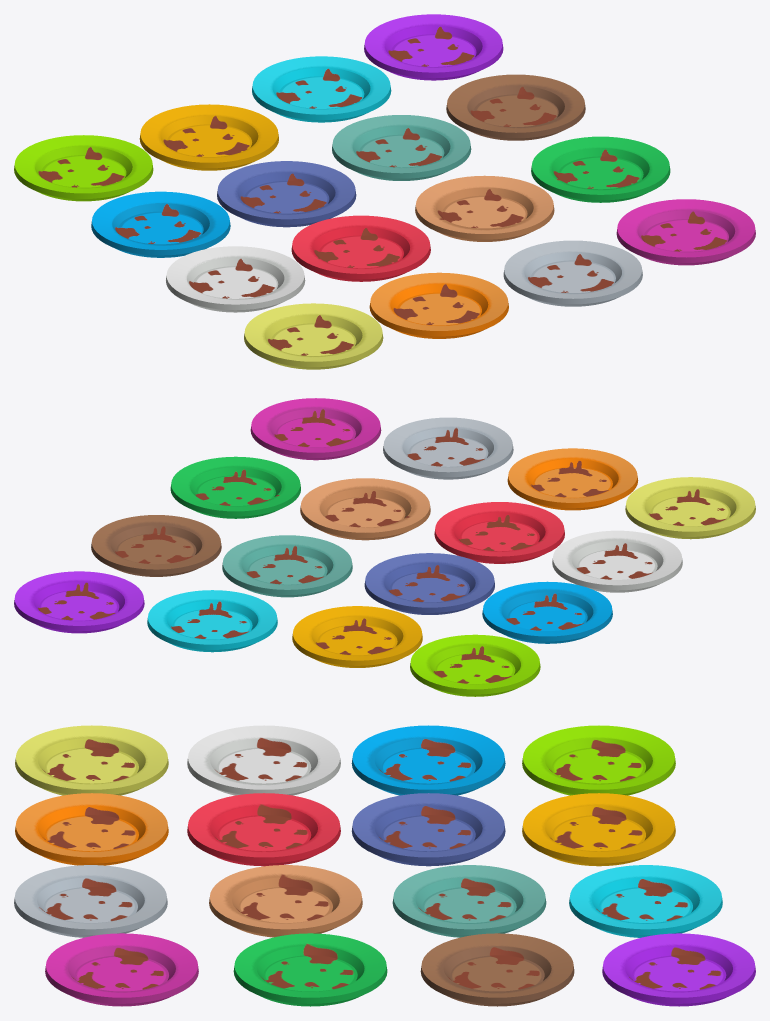
The model's file is Plates All.fbx.
The picture shows the model from 3 angles, top to bottom: view 1: azimuth 30°, elevation 25°; view 2: azimuth 150°, elevation 25°; view 3: azimuth 270°, elevation 25°; orthographic projection. The views are drawn at different scales.
Visible parts, largest first — view 1: Plate_15, Plate_09, Plate_07, Plate04, Plate_12, Plate_16, Plate_01, Plate_02, Plate_13, Plate_14, Plate_06, Plate_05 (+4 smaller); view 2: Plate_16, Plate_11, Plate_09, Plate_10, Plate_05, Plate_14, Plate_01, Plate04, Plate_12, Plate_13, Plate_08, Plate_15 (+4 smaller); view 3: Plate_13, Plate_16, Plate_14, Plate_15, Plate_07, Plate_08, Plate_06, Plate_05, Plate_12, Plate_09, Plate_11, Plate_10 (+4 smaller).
Boxes of the visible parts, x1,y1,x2,y2 form: Plate_15: (446,74,585,140); Plate_09: (503,240,642,306); Plate_07: (139,104,278,170); Plate04: (14,135,153,201); Plate_12: (252,56,391,122); Plate_16: (364,14,503,80); Plate_01: (244,303,383,369); Plate_02: (166,246,305,312); Plate_13: (616,199,755,265); Plate_14: (531,136,670,202); Plate_06: (291,215,430,281); Plate_05: (369,272,508,338); Plate_16: (14,571,144,633); Plate_11: (222,535,352,597); Plate_09: (383,417,513,479); Plate_10: (300,478,430,540); Plate_05: (507,448,638,510); Plate_14: (170,456,300,518); Plate_01: (625,477,755,539); Plate04: (410,634,540,696); Plate_12: (147,590,277,652); Plate_13: (250,398,381,460); Plate_08: (364,553,494,614); Plate_15: (91,515,221,576); Plate_13: (45,933,198,1006); Plate_16: (602,933,755,1006); Plate_14: (233,933,387,1006); Plate_15: (420,933,574,1006); Plate_07: (522,793,675,866); Plate_08: (351,793,505,866); Plate_06: (187,793,340,866); Plate_05: (15,793,168,865); Plate_12: (569,865,722,937); Plate_09: (14,865,167,937); Plate_11: (392,865,546,937); Plate_10: (209,865,362,937).
Size of the model in its own units: 953 by 32.62 by 1095.
Materials: 1 (1 with a texture image).
